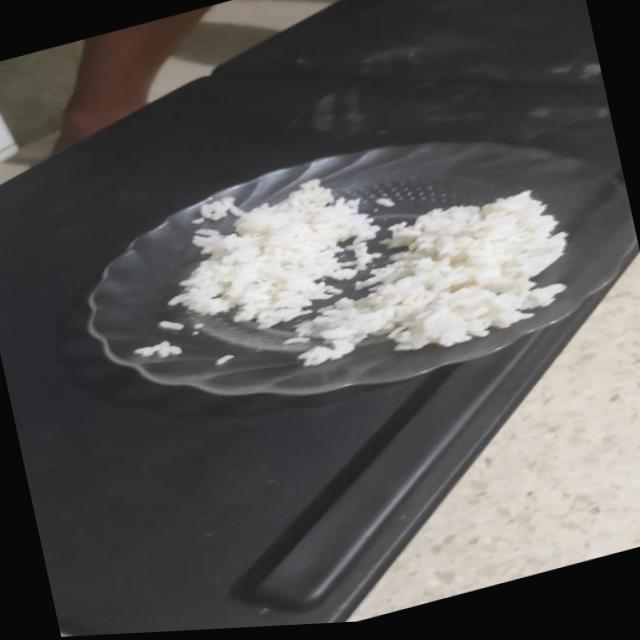nasi_putih: (296, 190, 567, 364), (168, 178, 376, 328)
